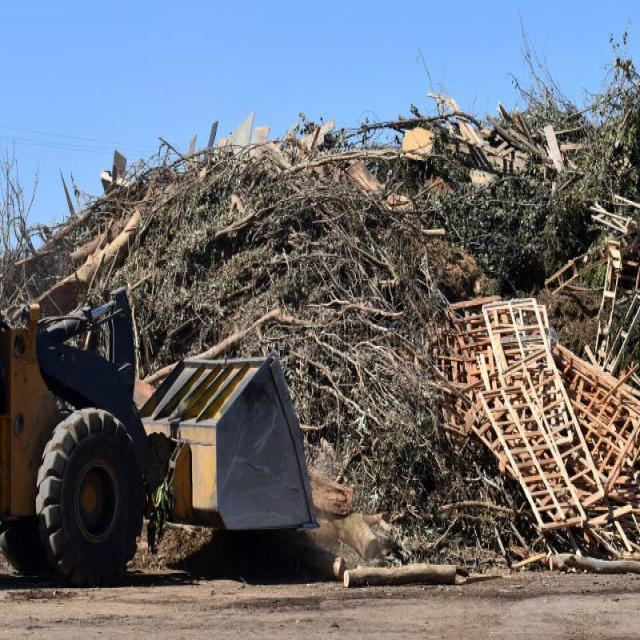green waste: (0, 31, 636, 566)
